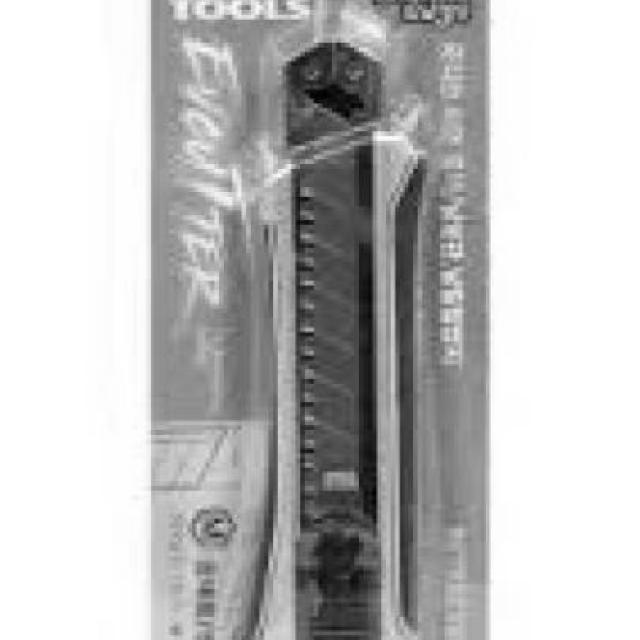estilete: (240, 44, 423, 640)
